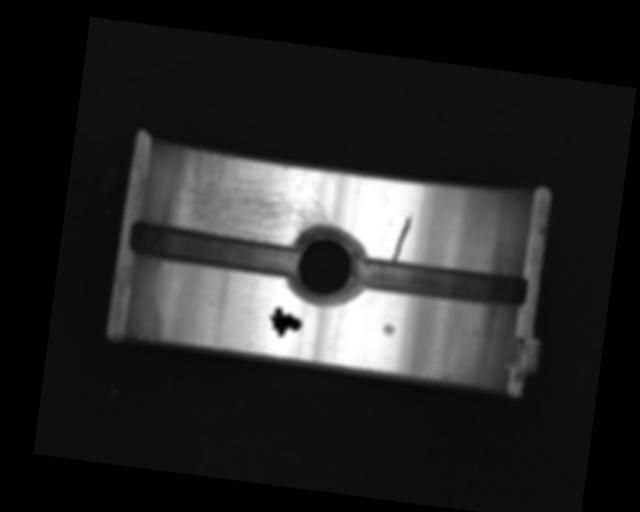blot: (266, 306, 304, 340)
bruise: (381, 322, 396, 336)
gap: (351, 252, 530, 311), (127, 220, 301, 279)
hole: (285, 222, 367, 310)
nick: (391, 208, 414, 263)
scratch: (169, 147, 337, 252)
